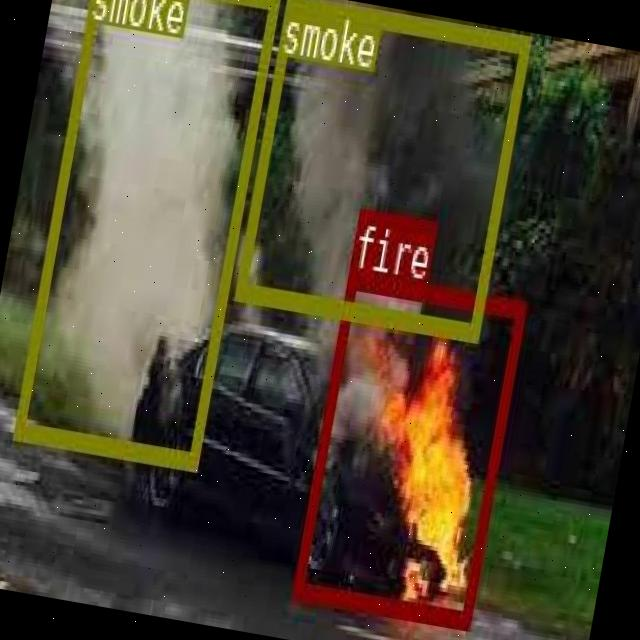fire: (292, 268, 525, 626)
smoke: (11, 0, 280, 467), (233, 0, 530, 339)
